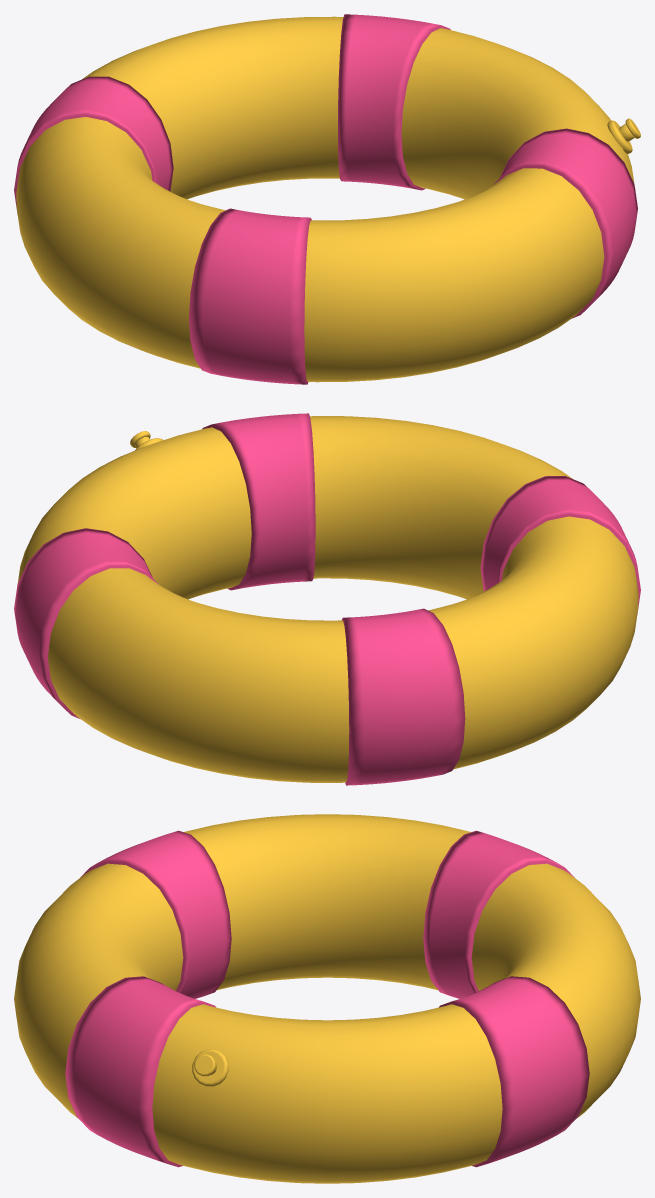
Rendered from SharkBaitFloatie.obj.
3 renders of one model, top to bottom at view 1: azimuth 30°, elevation 25°; view 2: azimuth 150°, elevation 25°; view 3: azimuth 270°, elevation 25°, orthographic.
Parts seen in each view (by area): view 1: Ring, Stripes; view 2: Ring, Stripes; view 3: Ring, Stripes.
Part boxes in pixels (left/top/right/bottom): Ring: left=16, top=16, right=640, bottom=382; Stripes: left=14, top=14, right=637, bottom=384; Ring: left=17, top=416, right=638, bottom=782; Stripes: left=14, top=413, right=640, bottom=785; Ring: left=14, top=814, right=640, bottom=1183; Stripes: left=65, top=830, right=589, bottom=1167.
Bounding box in the file's own units: 3.6 × 1 × 3.6.
